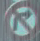Don't turn right: (5, 3, 39, 38)
